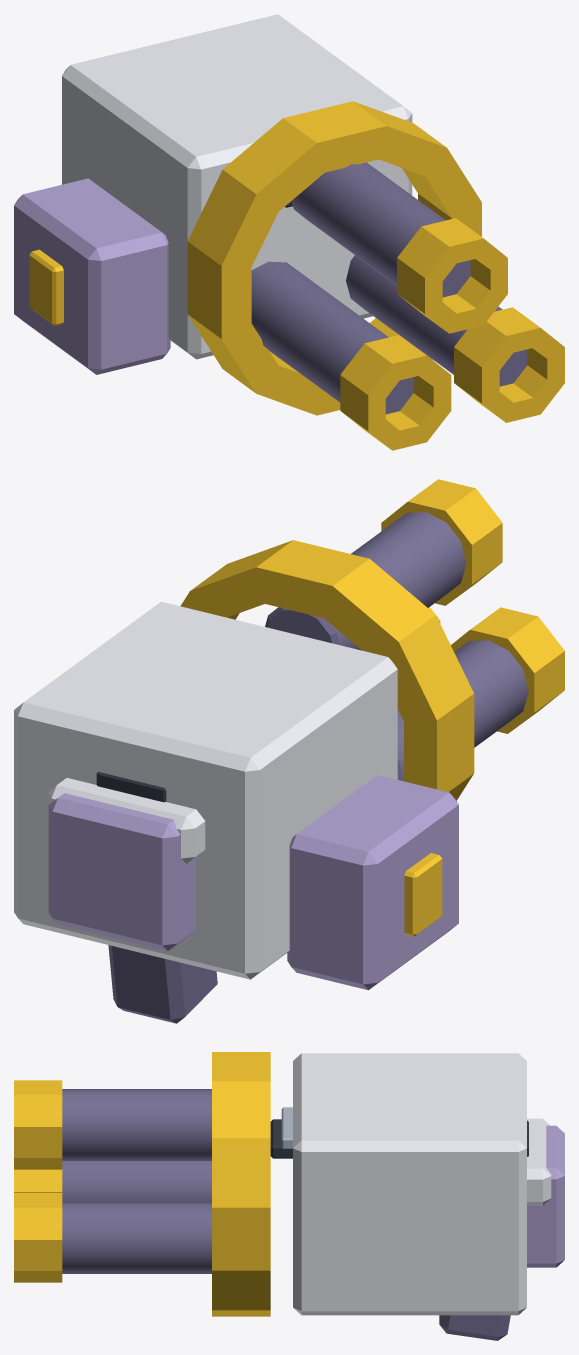
Rendered from Future_Gatling_v001.fbx.
The picture shows the model from 3 angles, top to bottom: view 1: azimuth 30°, elevation 25°; view 2: azimuth 150°, elevation 25°; view 3: azimuth 270°, elevation 25°; orthographic projection. The views are drawn at different scales.
Visible parts, largest first — view 1: Future_Gatling__RECEIVER_MESH, Future_Gatling__BARREL_MESH; view 2: Future_Gatling__RECEIVER_MESH, Future_Gatling__BARREL_MESH; view 3: Future_Gatling__RECEIVER_MESH, Future_Gatling__BARREL_MESH.
Boxes of the visible parts, bbox=[...] form: Future_Gatling__RECEIVER_MESH: bbox=[14, 14, 481, 415]; Future_Gatling__BARREL_MESH: bbox=[251, 162, 564, 450]; Future_Gatling__RECEIVER_MESH: bbox=[14, 540, 474, 1023]; Future_Gatling__BARREL_MESH: bbox=[265, 479, 564, 781]; Future_Gatling__RECEIVER_MESH: bbox=[212, 1052, 564, 1340]; Future_Gatling__BARREL_MESH: bbox=[14, 1080, 211, 1282].
Bounding box in the file's own units: 0.9567 × 0.8461 × 1.6.
